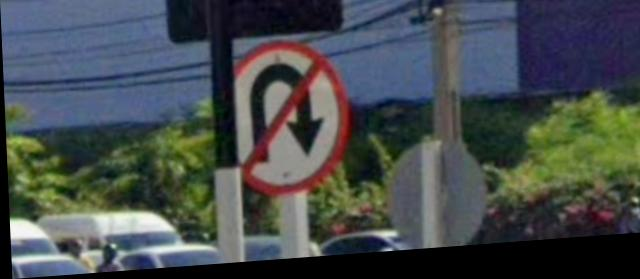not_u_turn_right: (233, 46, 351, 206)
